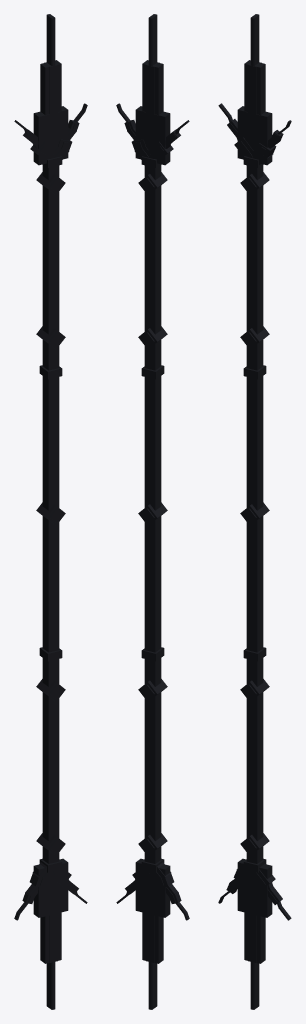
The model's file is requiem_spear_smooth.obj.
3 renders of one model, left to right at view 1: azimuth 30°, elevation 25°; view 2: azimuth 150°, elevation 25°; view 3: azimuth 330°, elevation 25°, orthographic.
Parts seen in each view (by area): view 1: requiem_spear; view 2: requiem_spear; view 3: requiem_spear.
Boxes of the visible parts, x1=… form: requiem_spear: x1=14, y1=14, x2=87, y2=1009; requiem_spear: x1=116, y1=14, x2=189, y2=1009; requiem_spear: x1=218, y1=14, x2=291, y2=1009.
Size of the model in its own units: 0.2119 by 2.81 by 0.06.
